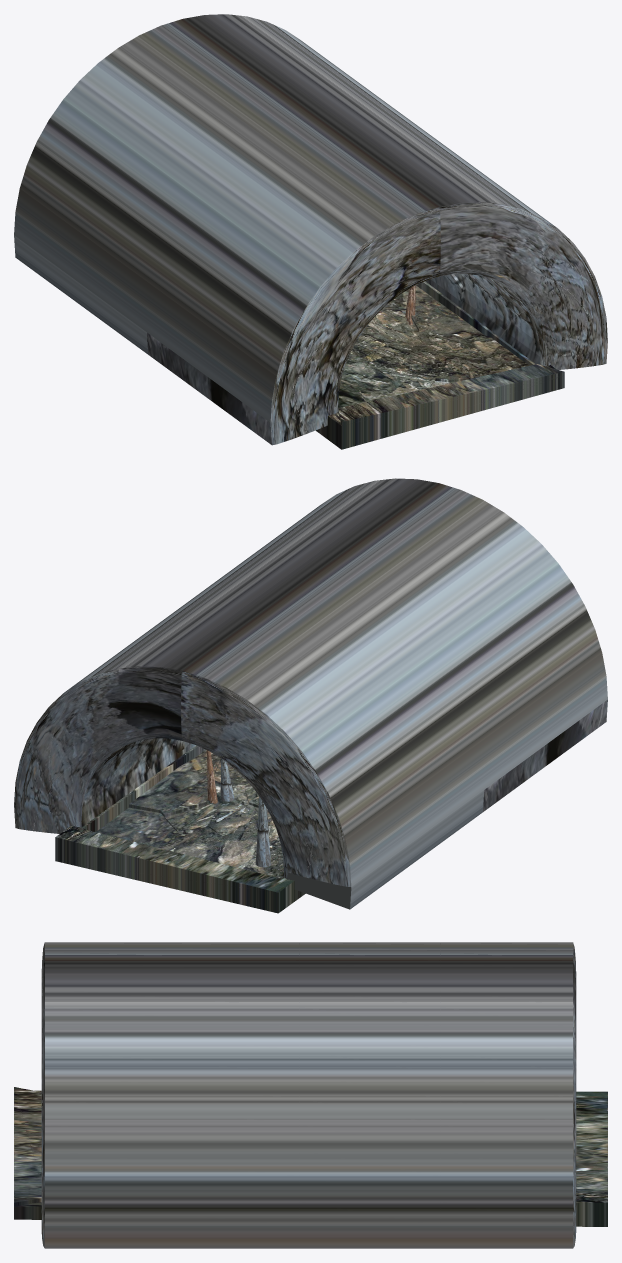
The model's file is cueva5.fbx.
3 renders of one model, top to bottom at view 1: azimuth 30°, elevation 25°; view 2: azimuth 150°, elevation 25°; view 3: azimuth 270°, elevation 25°, orthographic. The views are drawn at different scales.
Visible parts, largest first — view 1: Torus, Plano; view 2: Torus, Plano, stac4.001; view 3: Torus, Plano.
Boxes of the visible parts, x1,y1,x2,y2 form: Torus: (14, 14, 607, 445); Plano: (316, 281, 564, 449); Torus: (14, 478, 607, 909); Plano: (55, 745, 305, 913); stac4.001: (255, 797, 271, 867); Torus: (41, 942, 576, 1248); Plano: (14, 1087, 607, 1226).
Bounding box in the file's own units: 3026 × 1754 × 4481.
16 materials, 16 textured.
